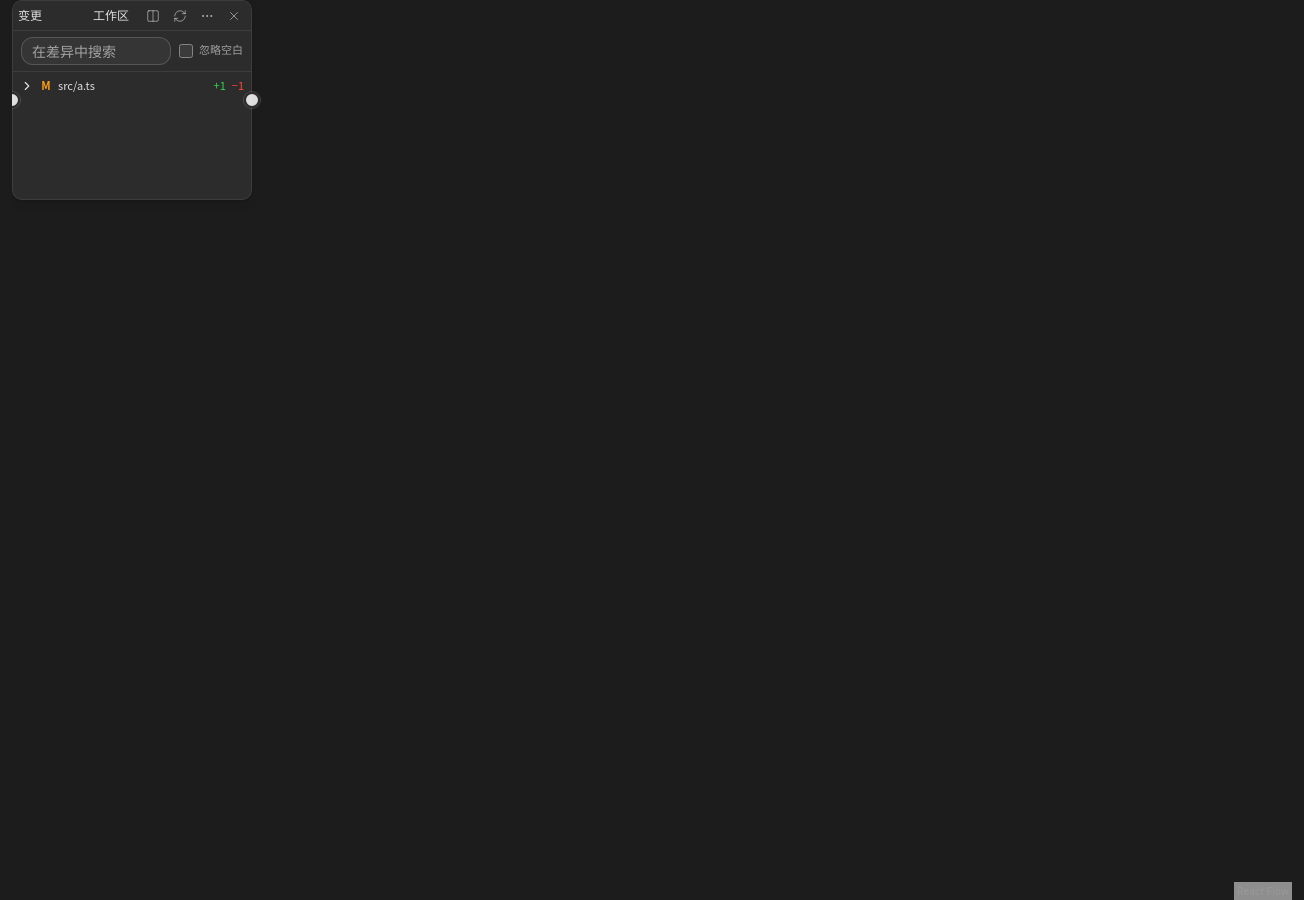
Test case: re-reads the diff when whitespace is ignored and reports a whitespace-only file
Expected: the button "M src/a.ts +1 −1" is shown, [13, 72, 251, 100]
Click the checkbox labelled "忽略空白": {"x": 186, "y": 51} [179, 44, 193, 58]
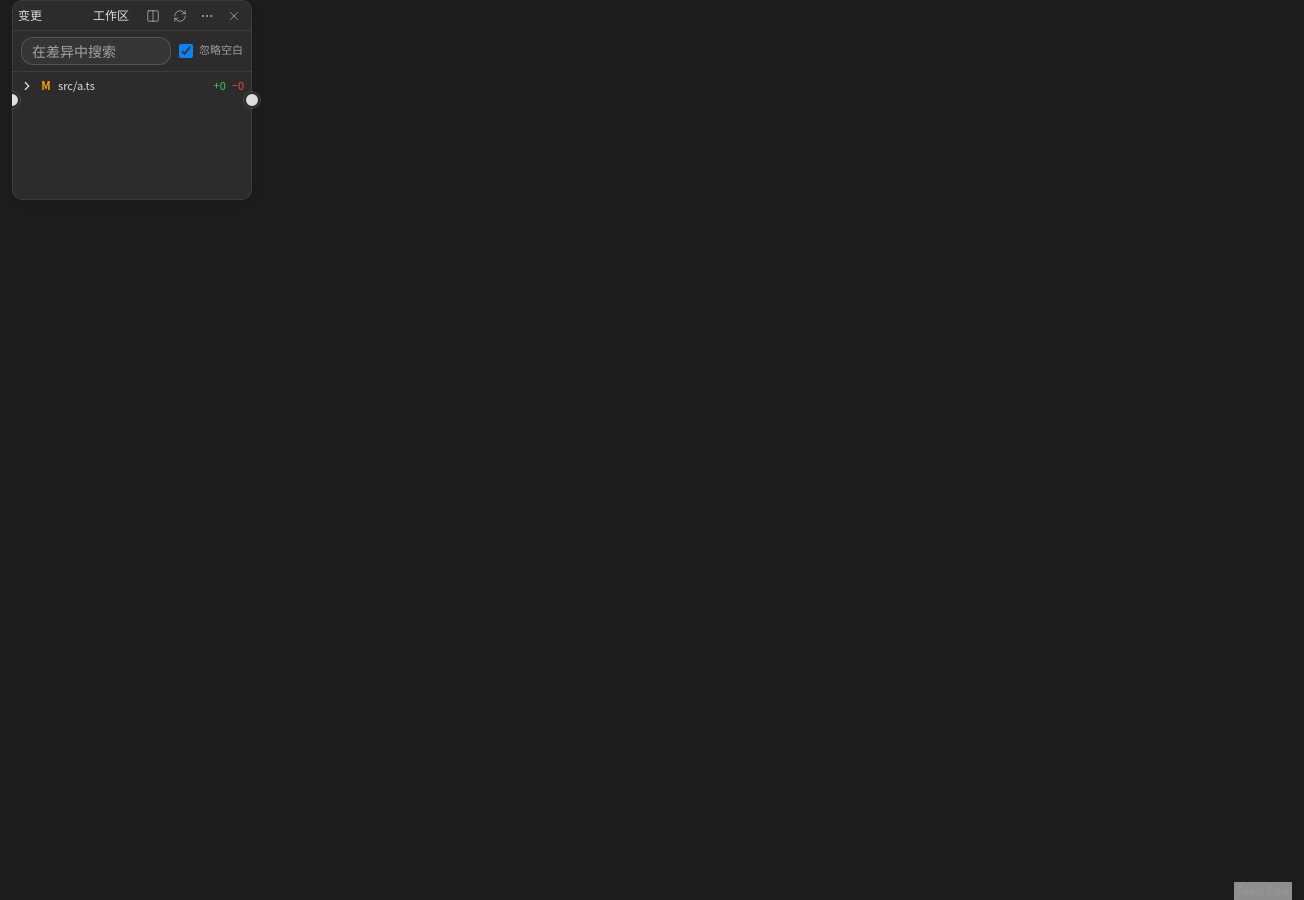
The row survives — the file really did change — and says why it is empty.
Click the button "M src/a.ts +0 −0": {"x": 132, "y": 86} [13, 72, 251, 100]
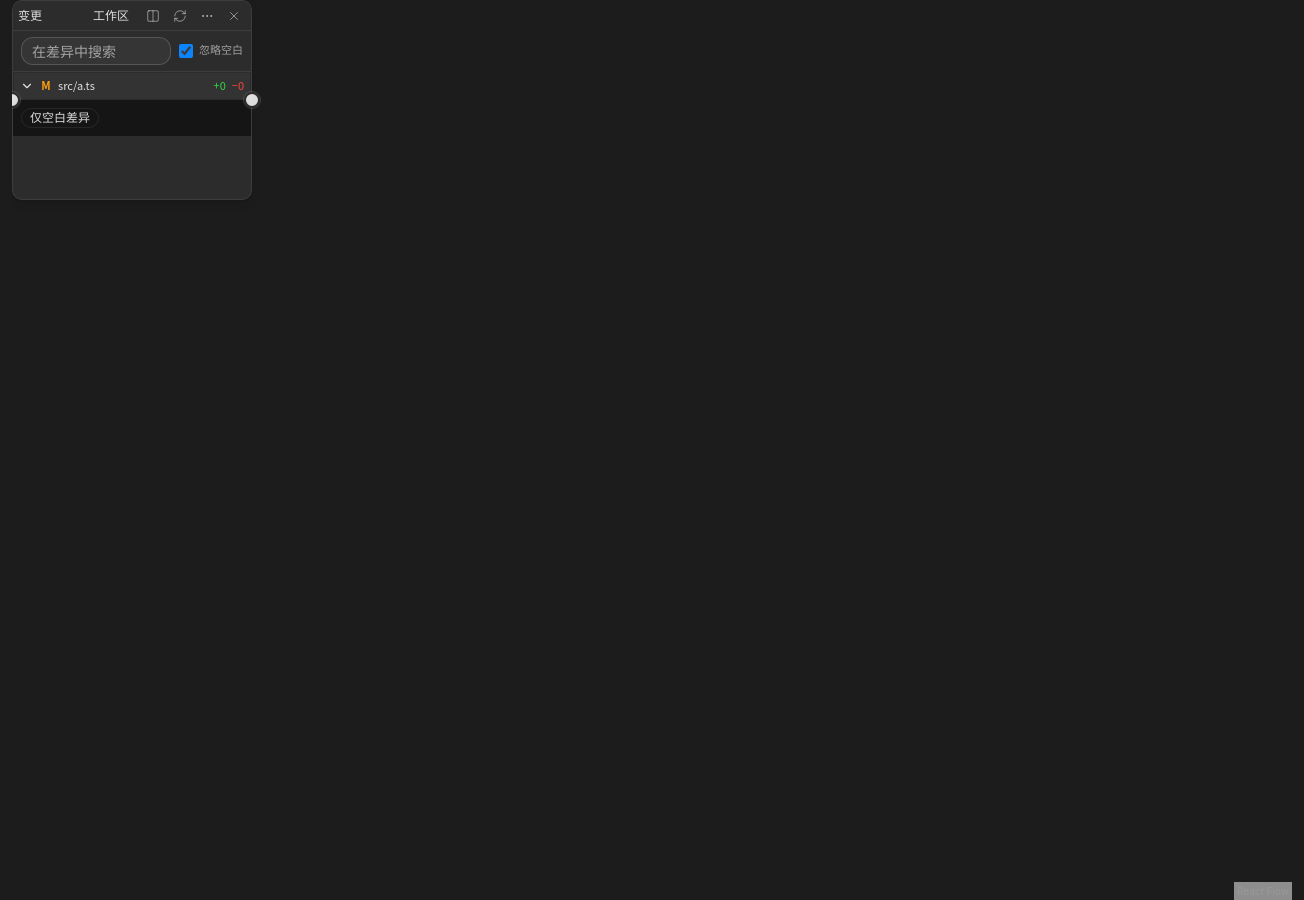
Expected: the text "仅空白差异" is shown, [21, 108, 99, 128]
